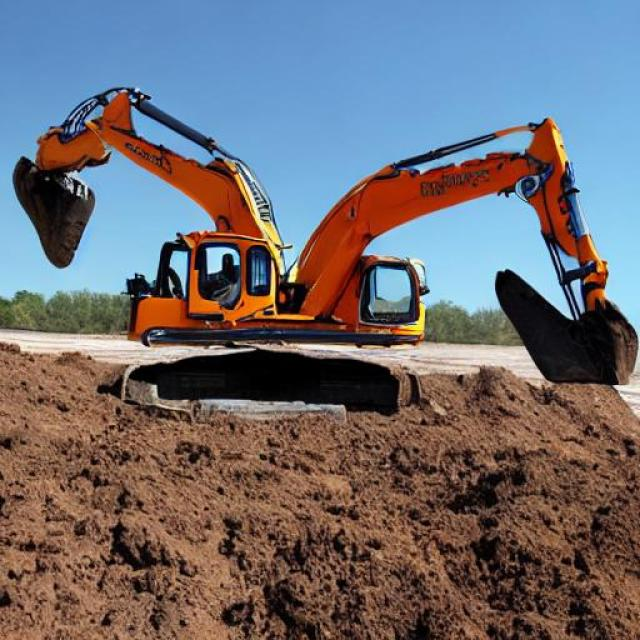excavator: (161, 83, 458, 391)
